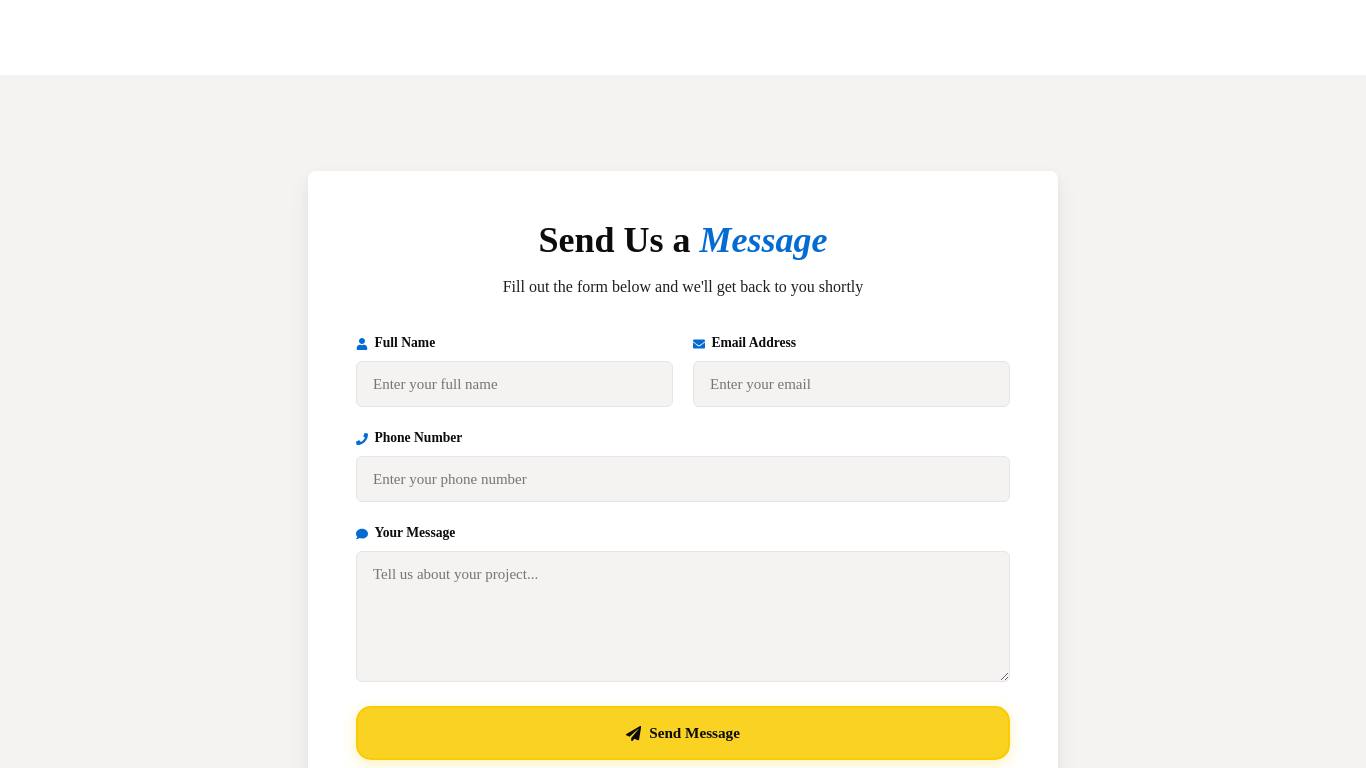
Test: Contact Page › submits form successfully
(page scrolled)
Type "Test" into the field with placeholder "Enter your full name" at [514, 384], box [356, 361, 673, 407]
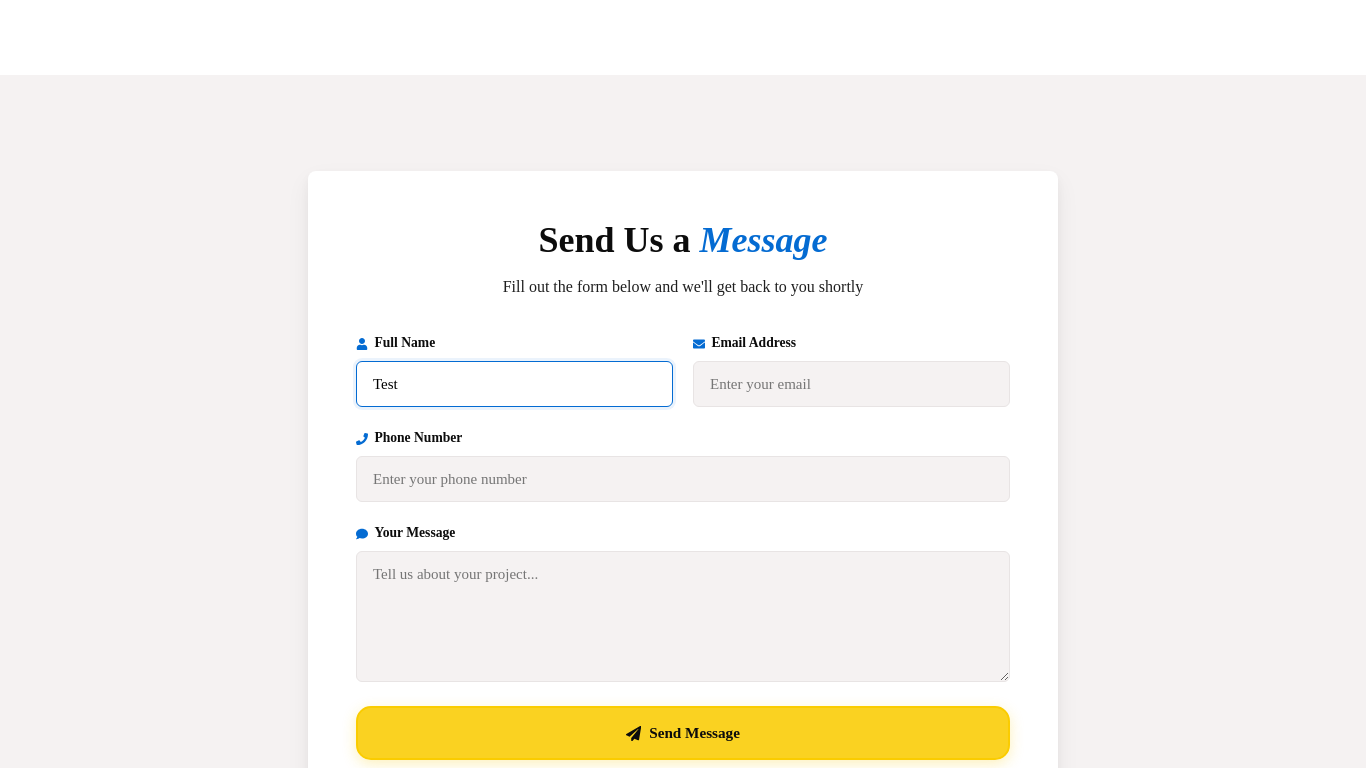
Type "test@test.com" into the field with placeholder "Enter your email" at [852, 384], box [693, 361, 1010, 407]
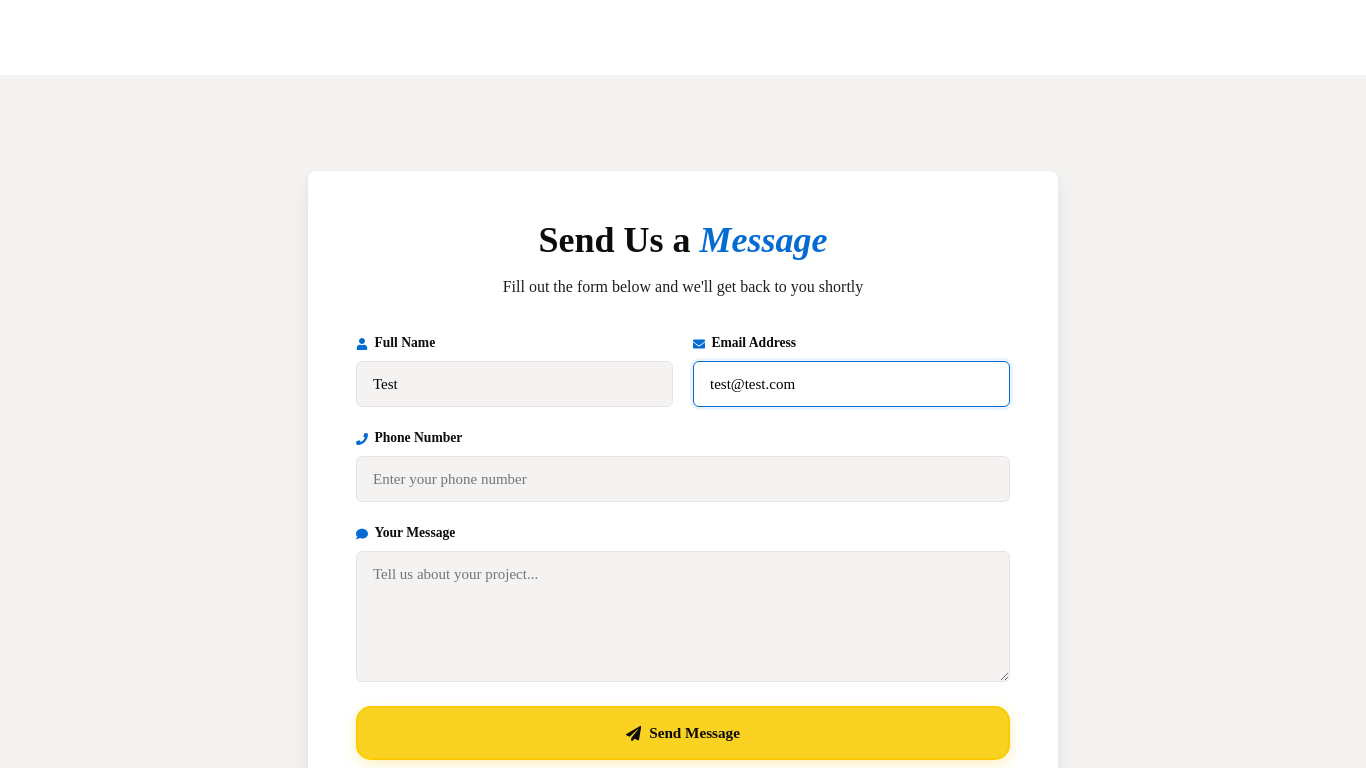
Type "1234567890" into the field with placeholder "Enter your phone number" at [683, 479], box [356, 456, 1010, 502]
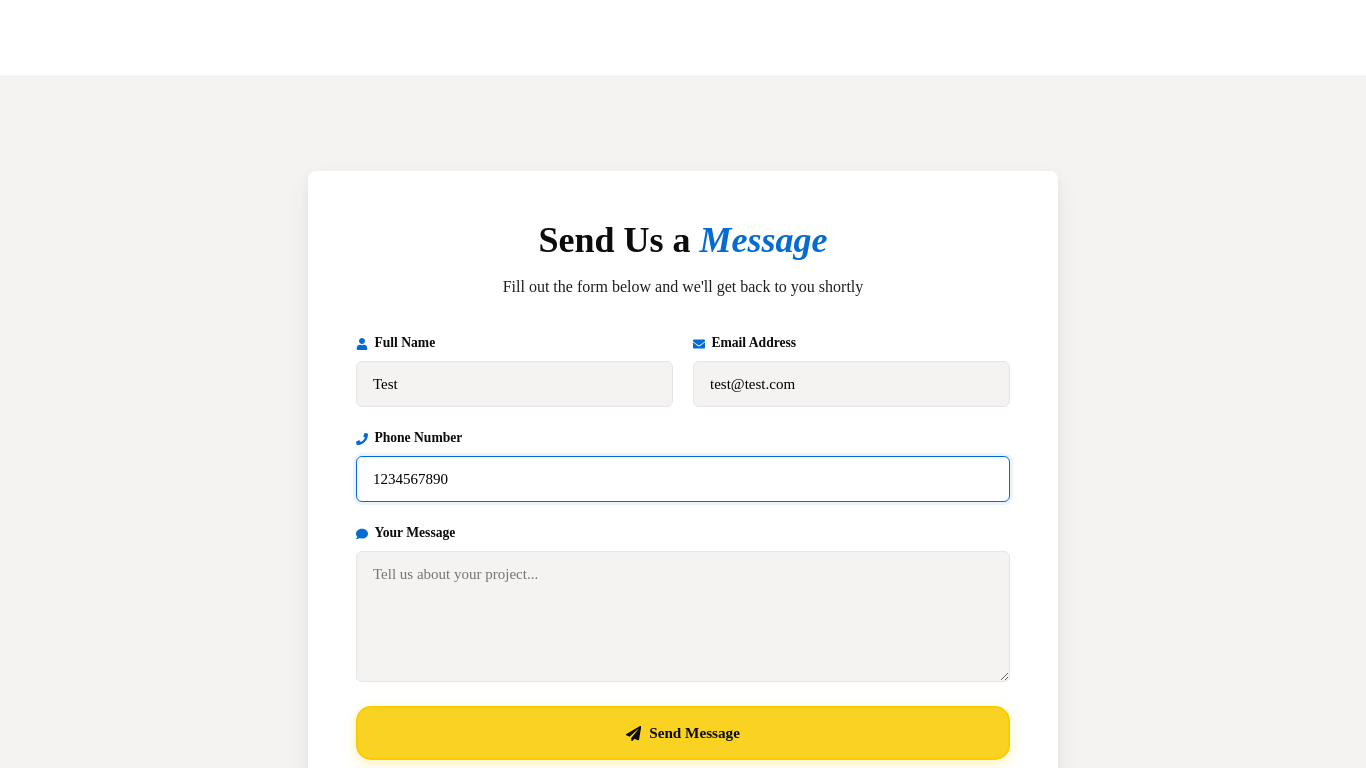
Type "Test message" into the text box with placeholder "Tell us about your project..." at [683, 617], box [356, 551, 1010, 682]
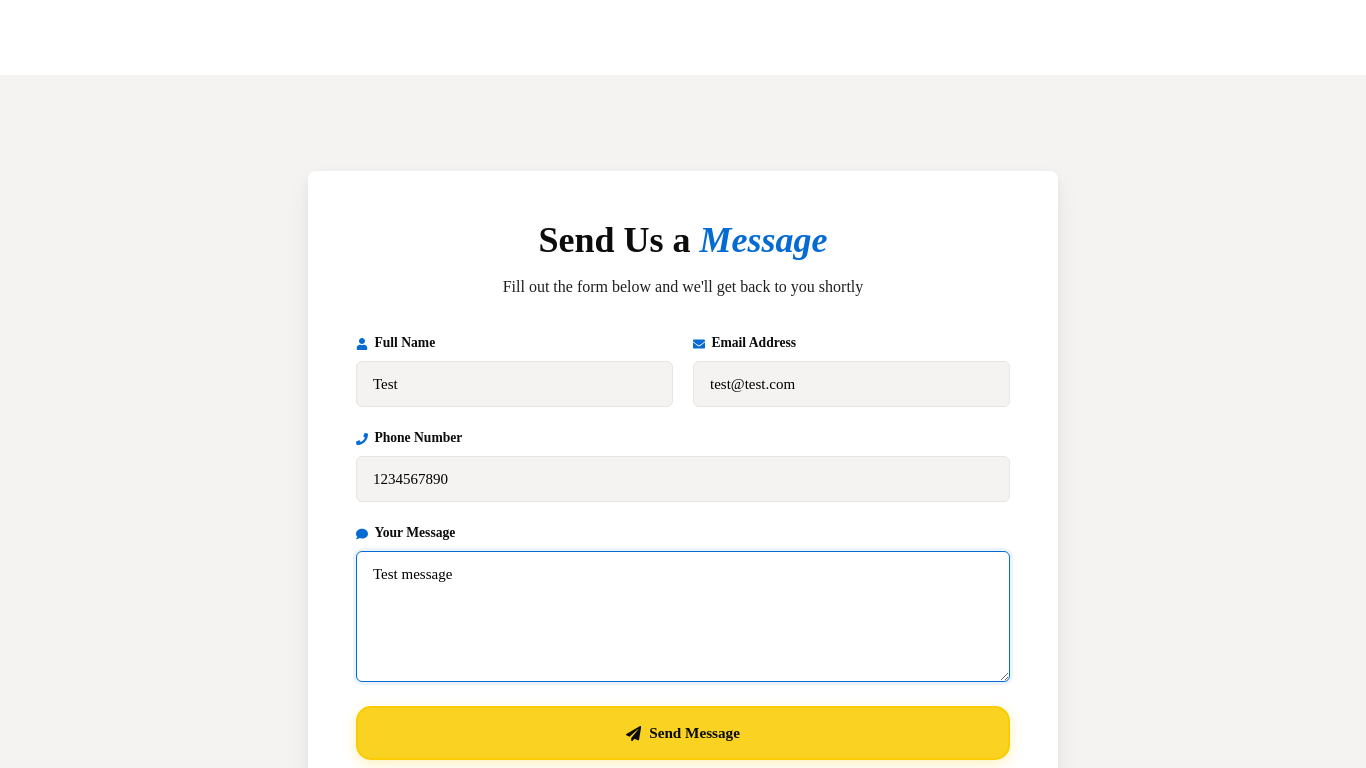
Click the button "Send Message" at [683, 733], box [356, 706, 1010, 760]
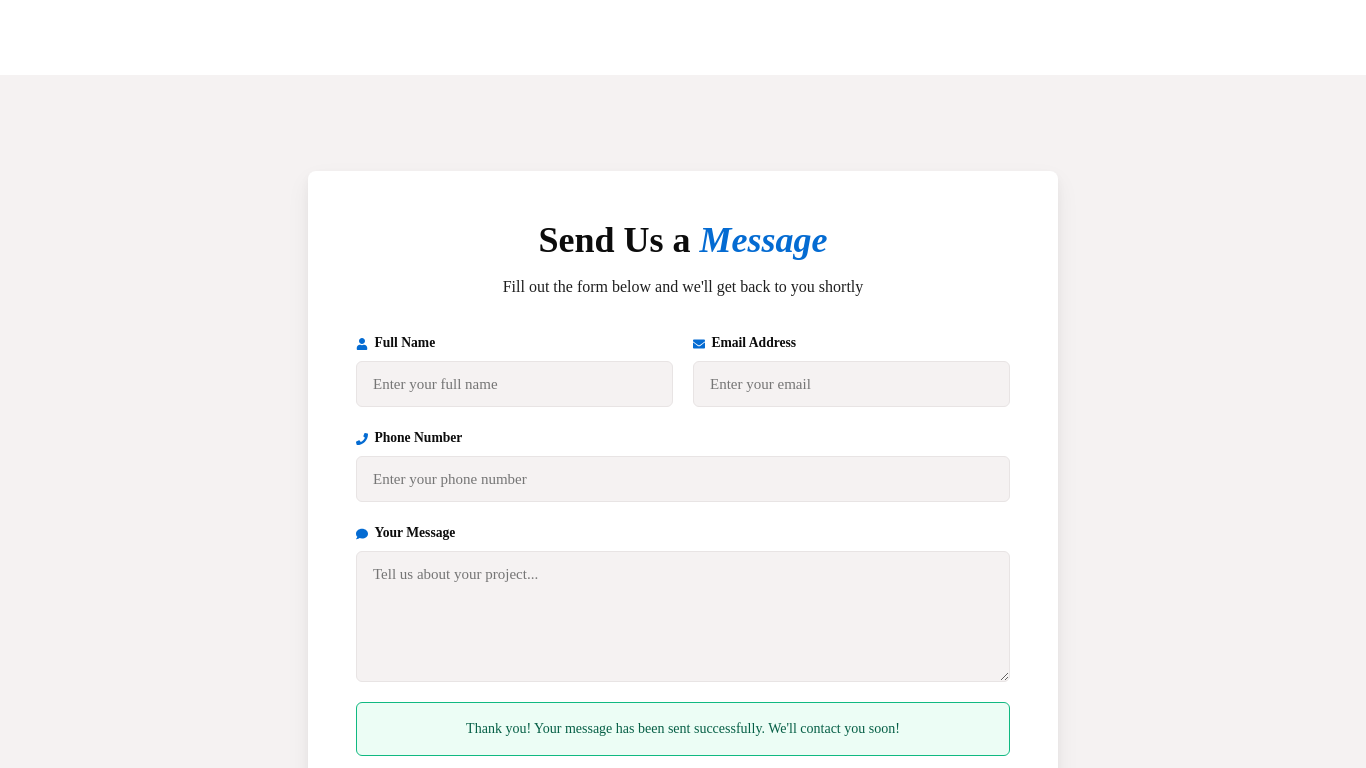
Check: the text "Thank you! Your message has been sent" is shown, box [466, 721, 900, 736]
